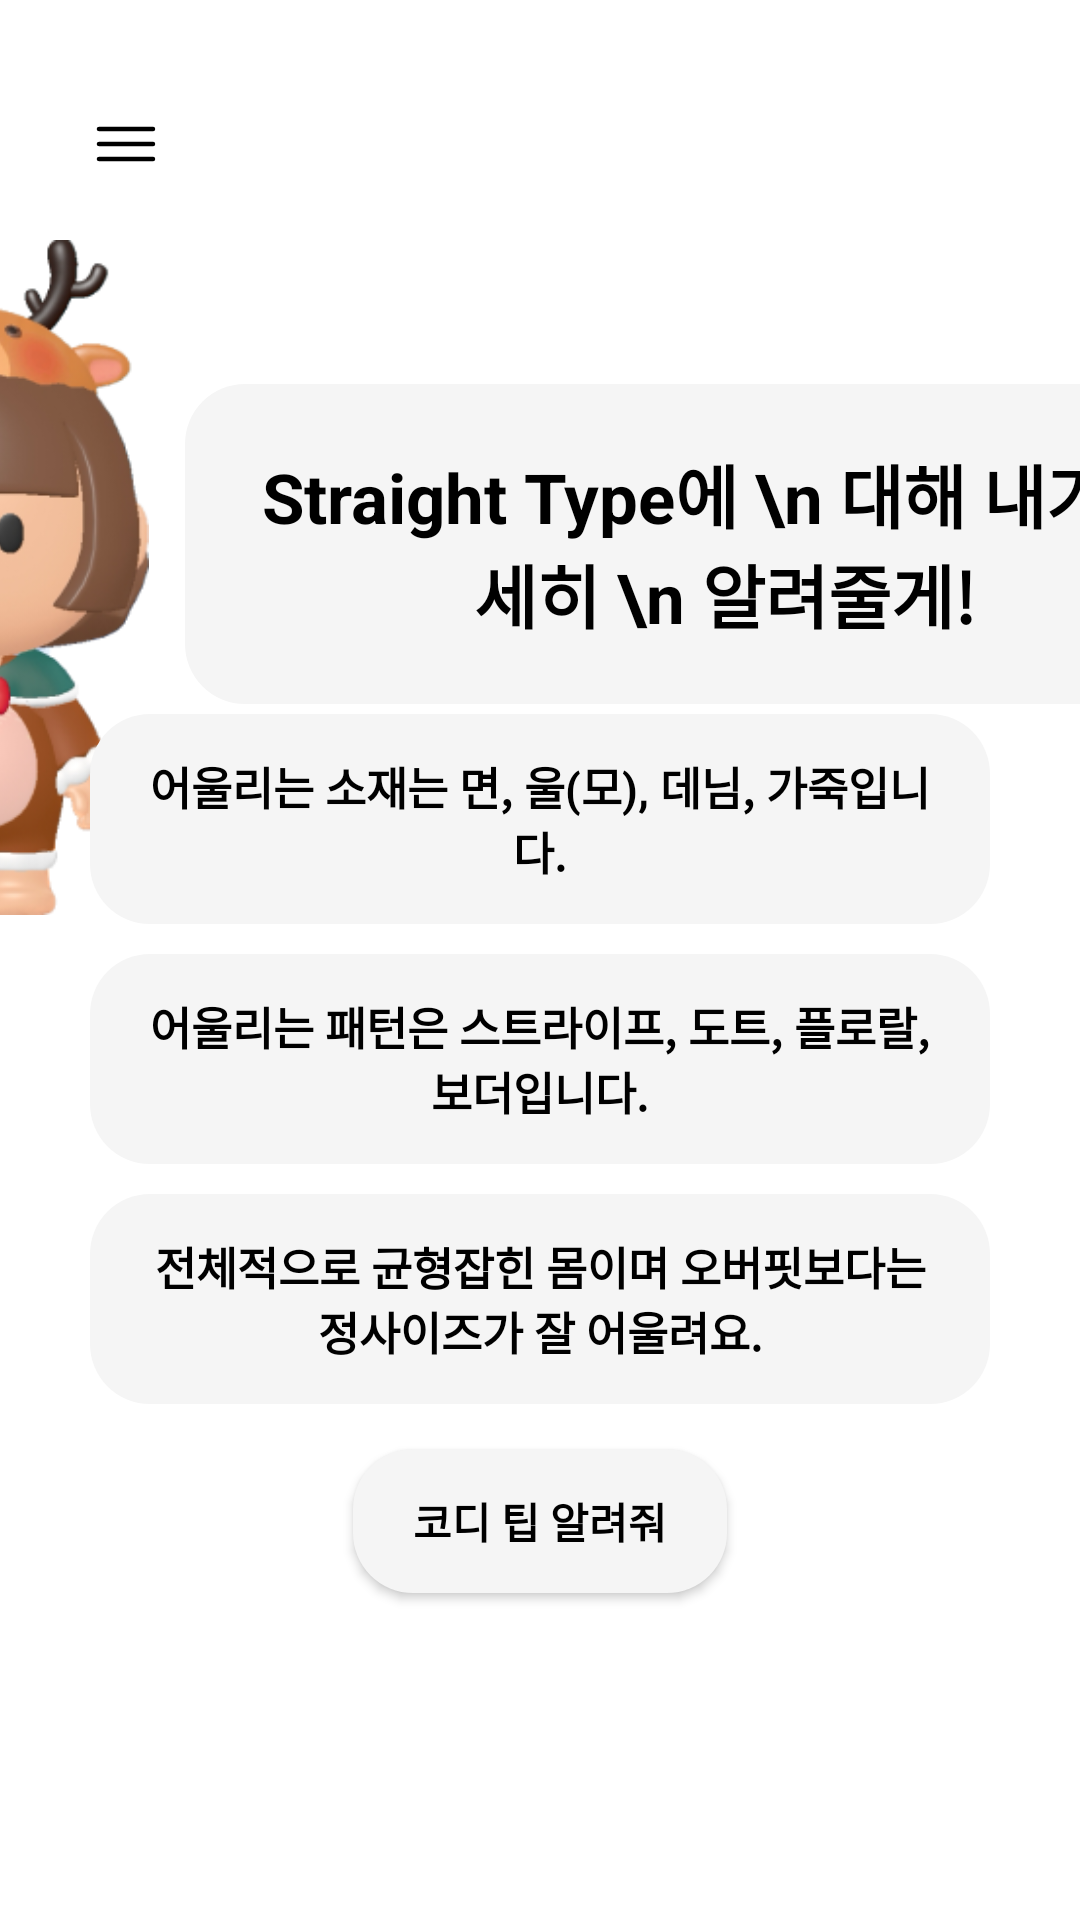

Where to tap for icons on this 1080px x 1920px app screen, as [x,y]:
hamburger menu: [125,144]
